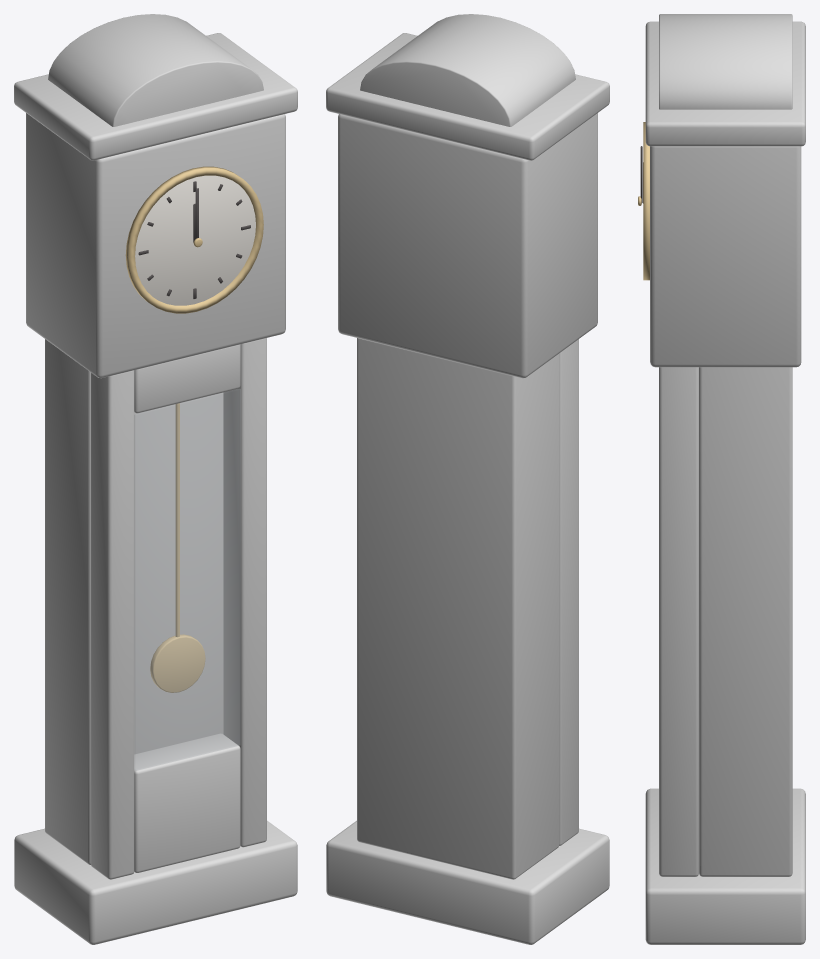
File: vintage_grandfather_clock_01.glb
The picture shows the model from 3 angles, left to right: view 1: azimuth 30°, elevation 25°; view 2: azimuth 150°, elevation 25°; view 3: azimuth 270°, elevation 25°; orthographic projection.
Parts seen in each view (by area): view 1: vintage_grandfather_clock_01_trunk, vintage_grandfather_clock_01_hood, vintage_grandfather_clock_01_glass, vintage_grandfather_clock_01_stile, vintage_grandfather_clock_01_stile_1, vintage_grandfather_clock_01_plinth, vintage_grandfather_clock_01_crown, vintage_grandfather_clock_01_rail, vintage_grandfather_clock_01_dial, vintage_grandfather_clock_01_cornice, vintage_grandfather_clock_01_rail_1, vintage_grandfather_clock_01_bezel (+2 smaller); view 2: vintage_grandfather_clock_01_trunk, vintage_grandfather_clock_01_hood, vintage_grandfather_clock_01_plinth, vintage_grandfather_clock_01_crown, vintage_grandfather_clock_01_cornice, vintage_grandfather_clock_01_stile; view 3: vintage_grandfather_clock_01_trunk, vintage_grandfather_clock_01_hood, vintage_grandfather_clock_01_stile_1, vintage_grandfather_clock_01_plinth, vintage_grandfather_clock_01_crown, vintage_grandfather_clock_01_cornice, vintage_grandfather_clock_01_bezel.
Boxes of the visible parts, left/top/right/bottom form: vintage_grandfather_clock_01_trunk: left=45, top=339, right=223, bottom=864; vintage_grandfather_clock_01_hood: left=26, top=113, right=285, bottom=378; vintage_grandfather_clock_01_glass: left=134, top=389, right=240, bottom=770; vintage_grandfather_clock_01_stile: left=91, top=370, right=134, bottom=879; vintage_grandfather_clock_01_stile_1: left=223, top=338, right=266, bottom=847; vintage_grandfather_clock_01_plinth: left=14, top=820, right=297, bottom=944; vintage_grandfather_clock_01_crown: left=48, top=14, right=263, bottom=126; vintage_grandfather_clock_01_rail: left=134, top=733, right=240, bottom=872; vintage_grandfather_clock_01_dial: left=135, top=175, right=255, bottom=305; vintage_grandfather_clock_01_cornice: left=14, top=33, right=297, bottom=160; vintage_grandfather_clock_01_rail_1: left=134, top=344, right=240, bottom=413; vintage_grandfather_clock_01_bezel: left=125, top=166, right=263, bottom=313; vintage_grandfather_clock_01_trunk: left=357, top=338, right=559, bottom=879; vintage_grandfather_clock_01_hood: left=338, top=113, right=597, bottom=378; vintage_grandfather_clock_01_plinth: left=326, top=820, right=609, bottom=944; vintage_grandfather_clock_01_crown: left=360, top=14, right=575, bottom=126; vintage_grandfather_clock_01_cornice: left=326, top=33, right=609, bottom=160; vintage_grandfather_clock_01_stile: left=559, top=339, right=578, bottom=845; vintage_grandfather_clock_01_trunk: left=699, top=367, right=792, bottom=876; vintage_grandfather_clock_01_hood: left=650, top=146, right=801, bottom=367; vintage_grandfather_clock_01_stile_1: left=659, top=367, right=698, bottom=876; vintage_grandfather_clock_01_plinth: left=645, top=788, right=805, bottom=944; vintage_grandfather_clock_01_crown: left=659, top=14, right=792, bottom=109; vintage_grandfather_clock_01_cornice: left=645, top=21, right=805, bottom=146; vintage_grandfather_clock_01_bezel: left=643, top=122, right=649, bottom=280.
Size of the model in its own units: 0.55 by 2.15 by 0.377.
